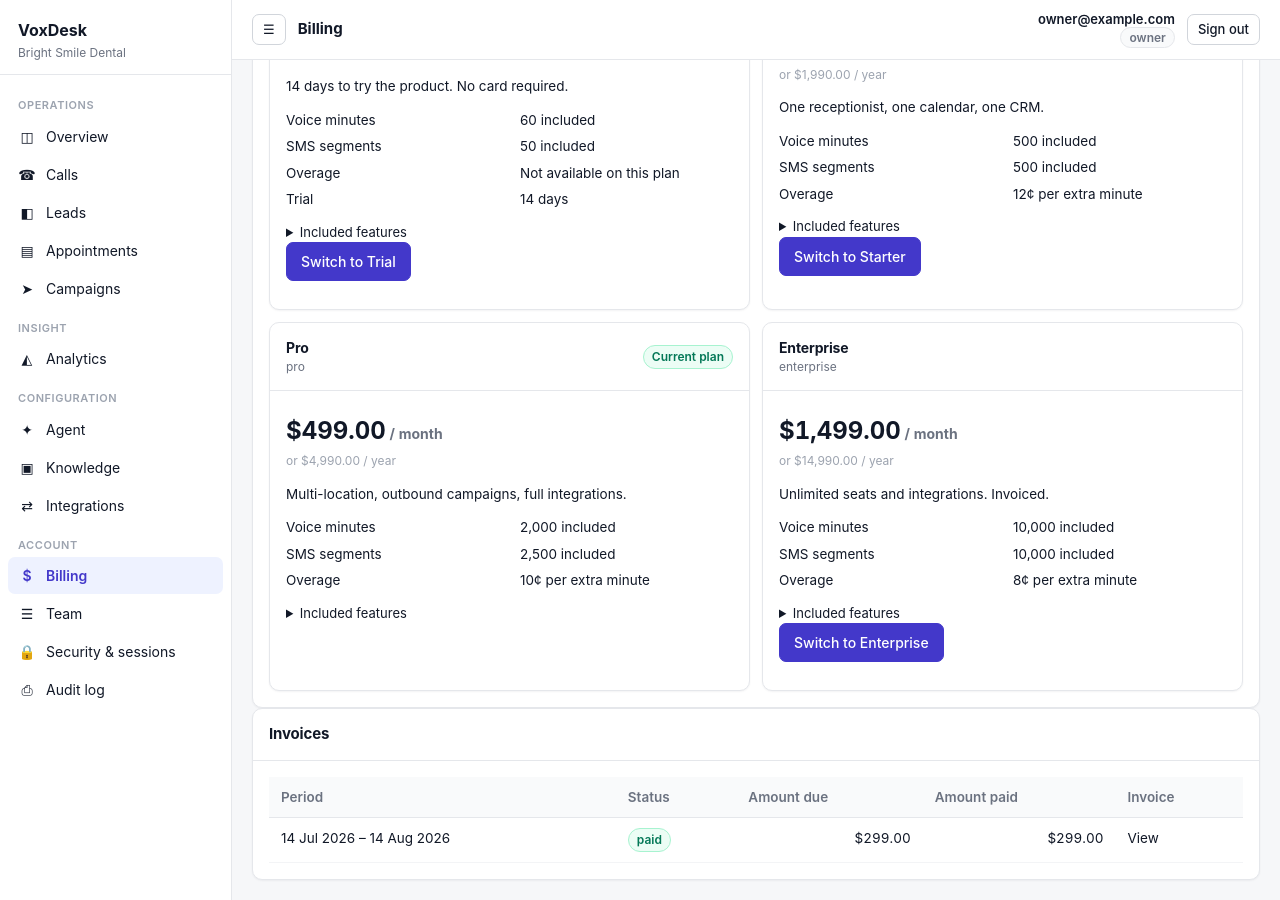
Test: change plan › reports an immediate upgrade from the returned status
(page scrolled)
Click the button "Switch to Enterprise": x=861, y=642 left=779, top=623, right=944, bottom=662
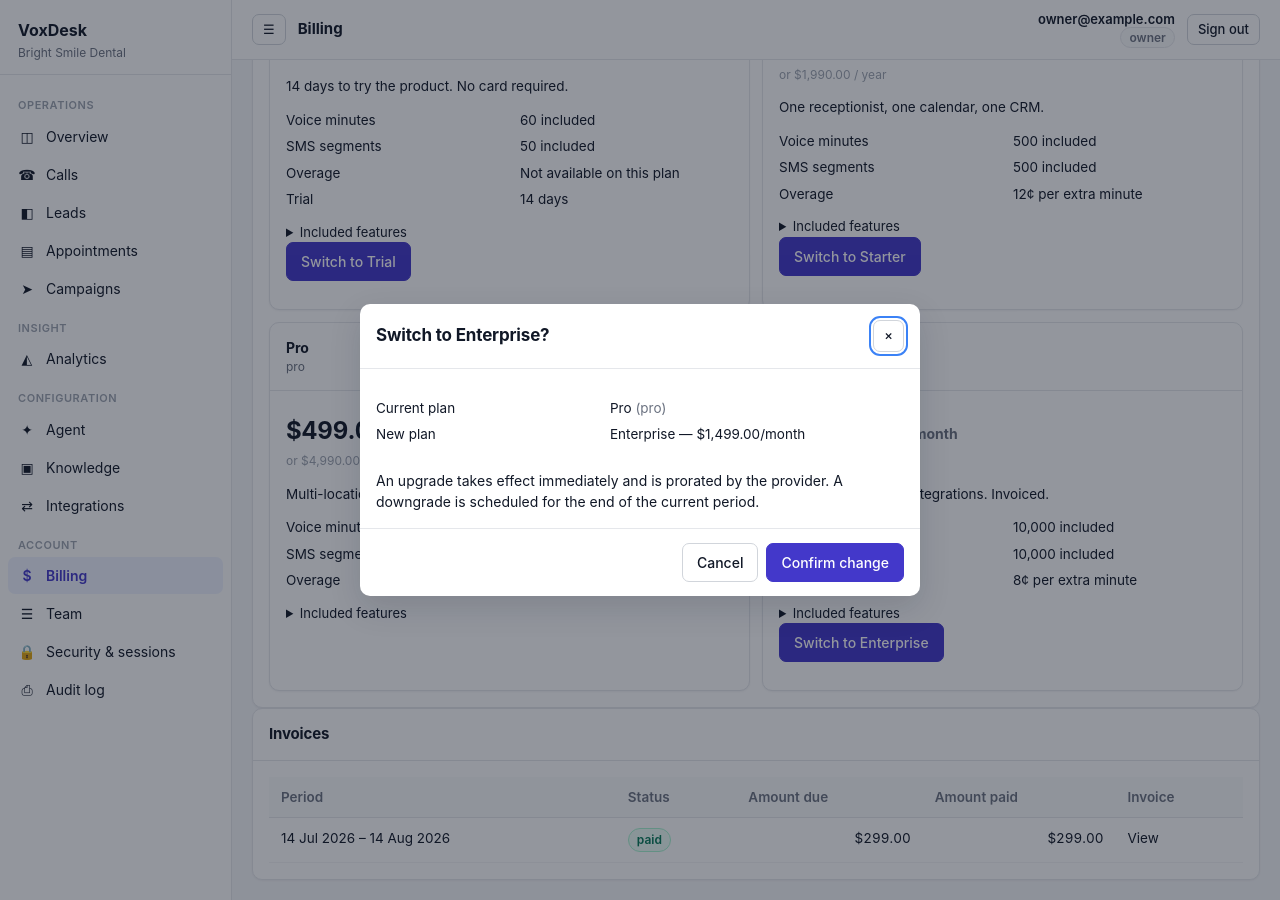
Click the button "Confirm change": x=835, y=562 left=766, top=543, right=904, bottom=582
(page scrolled)
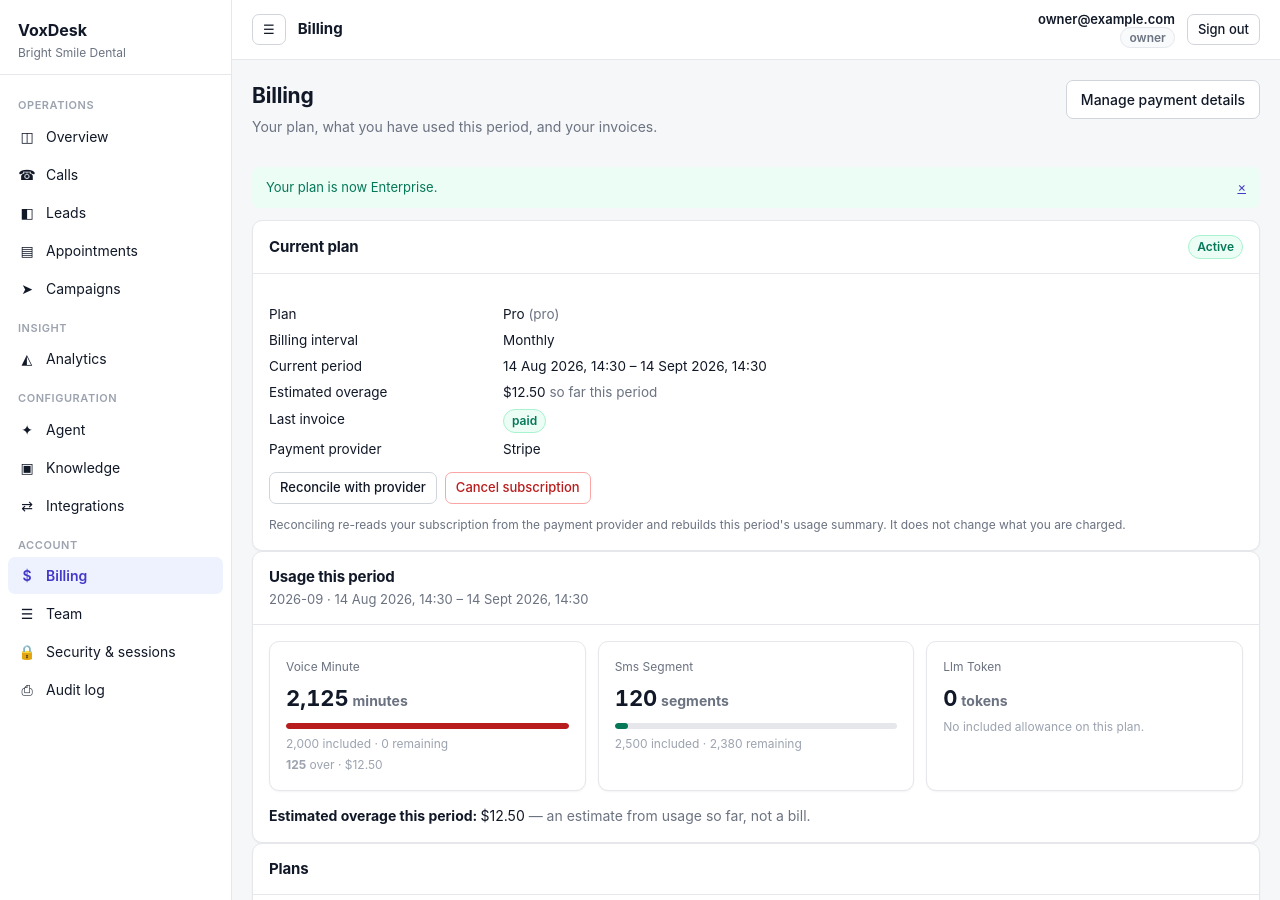
Now the text "Your plan is now Enterprise." is shown, box left=266, top=178, right=437, bottom=194
